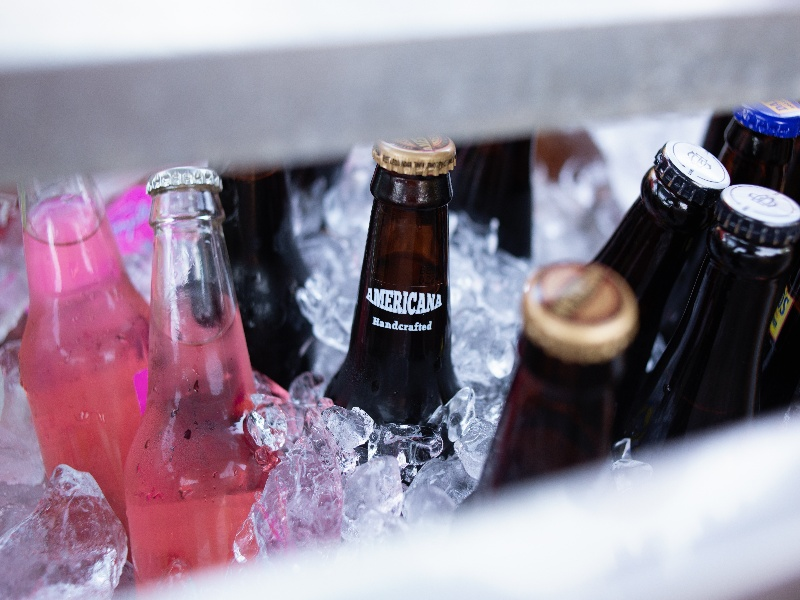Glass bottle: (75, 160, 287, 567), (598, 114, 793, 479), (2, 144, 184, 523), (319, 112, 465, 455), (477, 205, 630, 531)
